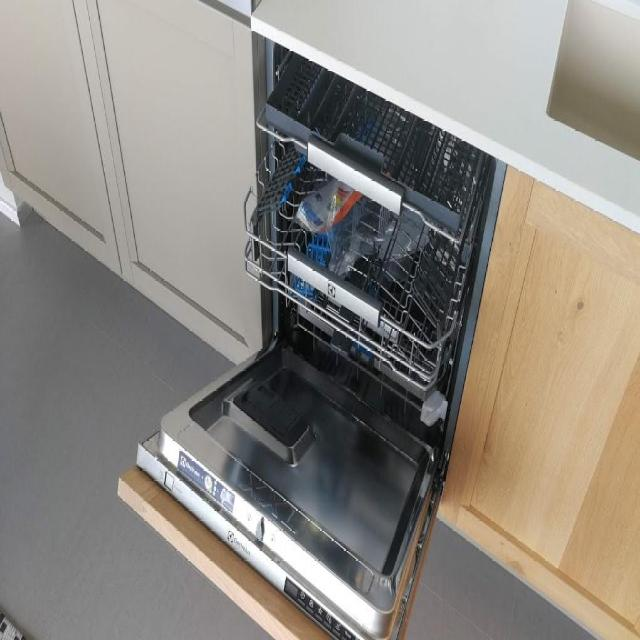dishwasher: (118, 8, 503, 639)
